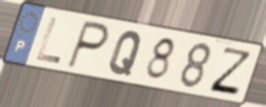8: (177, 40, 214, 90), (142, 36, 175, 83)
L: (34, 15, 62, 66)
P: (64, 18, 112, 72)
Q: (107, 30, 144, 78)
Z: (206, 45, 254, 98)
